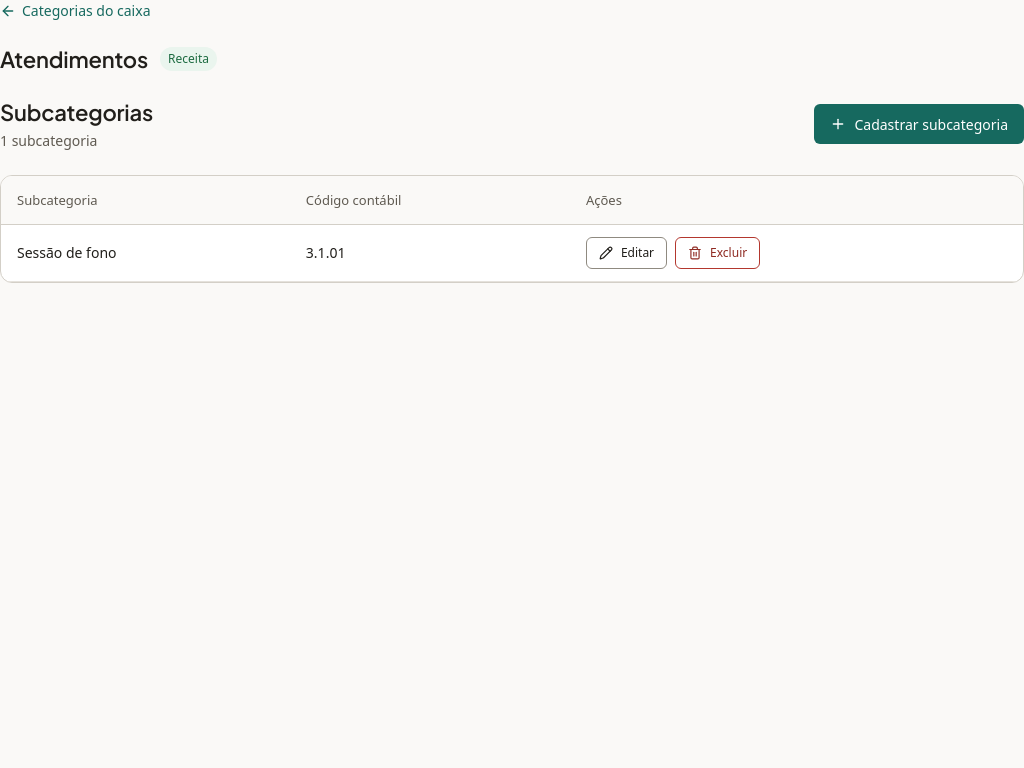
Test: Subcategoria — o nome repetido pousa no campo, com a string real do servidor › deve mostrar a recusa 422 no campo Nome sem fechar o formulário
Expected: the text "Sessão de fono" is shown, [1, 225, 290, 281]
Click the button "Cadastrar subcategoria" at (919, 124), box [814, 104, 1023, 144]
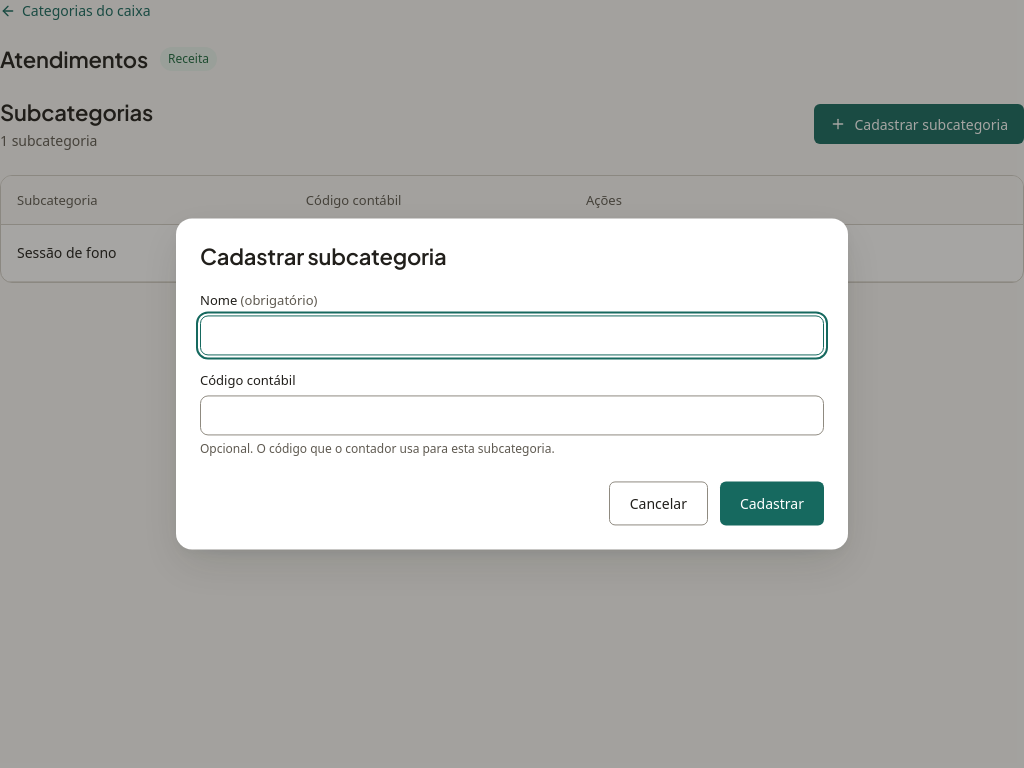
Type "Sessão de fono" into the field labelled "Nome (obrigatório)" at (512, 335), box [200, 315, 824, 355]
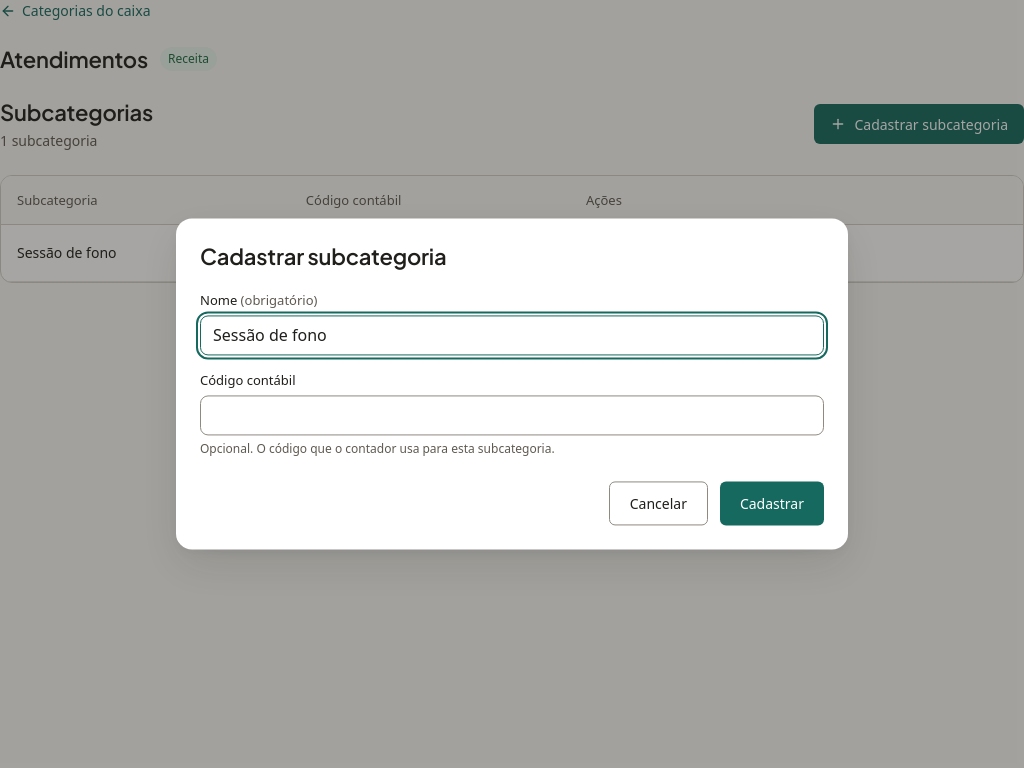
Click the button "Cadastrar" at (772, 504), box [720, 482, 824, 526]
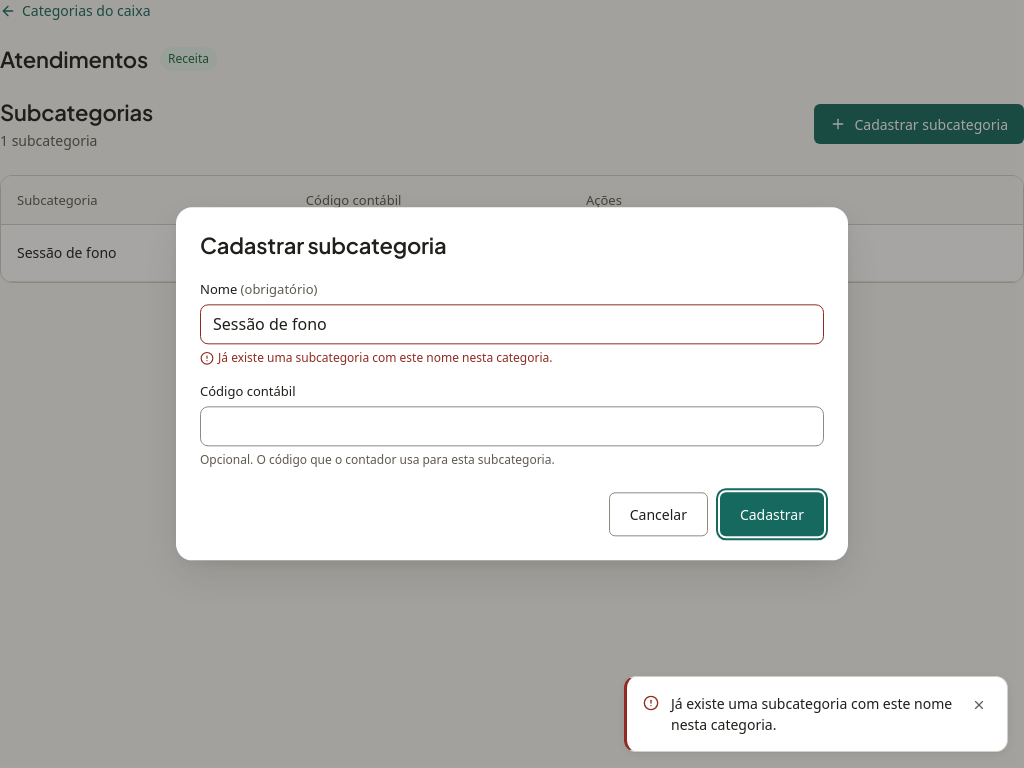
Expected: the text "Já existe uma subcategoria com este nome nesta categoria." is shown, [200, 349, 552, 366]
